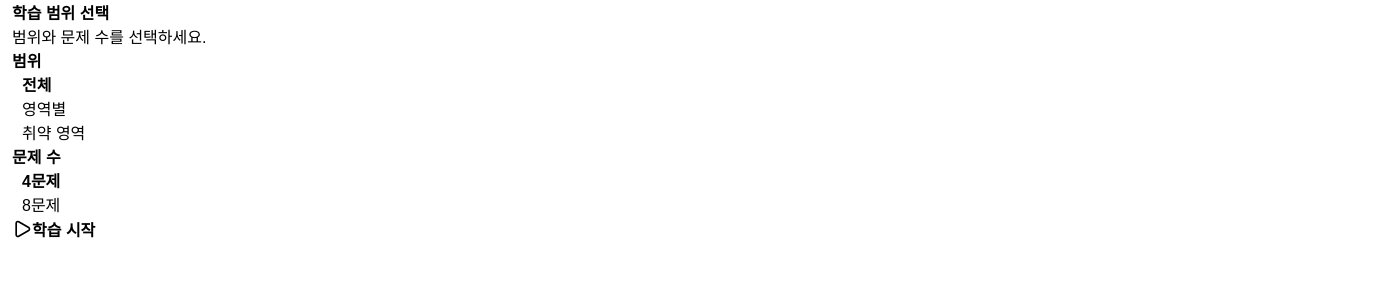
Test: 학습 시작 › 409면 이어풀기 안내를 보인다
Click the button "학습 시작": (54, 229) [12,216,95,242]
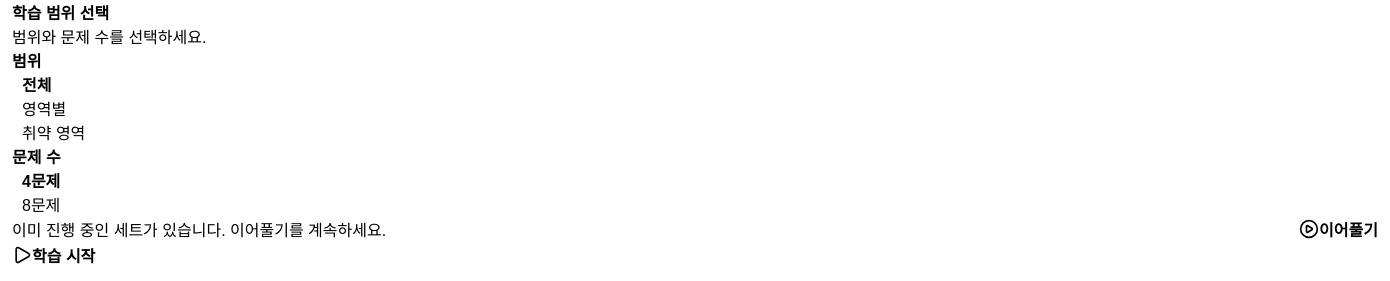
Now the text "이미 진행 중인 세트가 있습니다. 이어풀기를 계속하세요." is shown, box [12,222,386,239]
